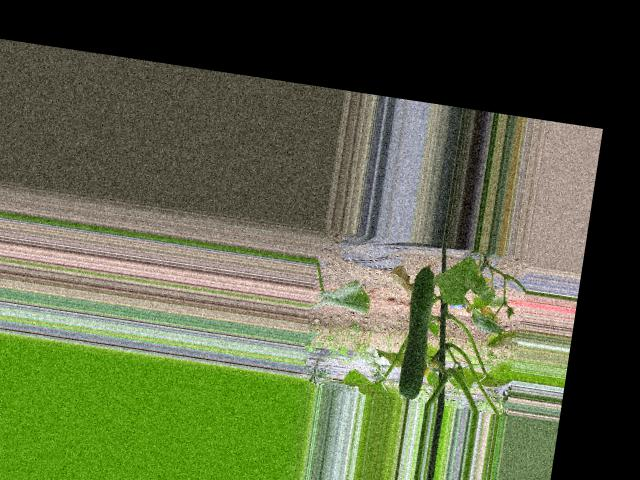cucumber: (395, 261, 440, 400)
